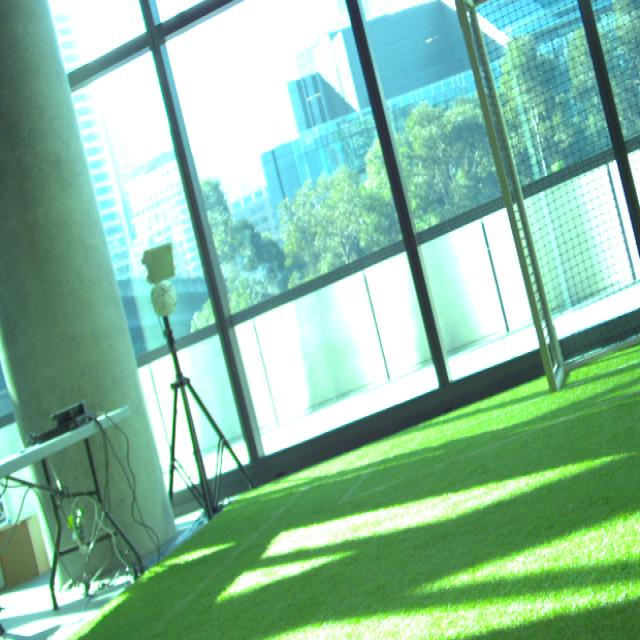goalpost: (454, 0, 560, 388)
